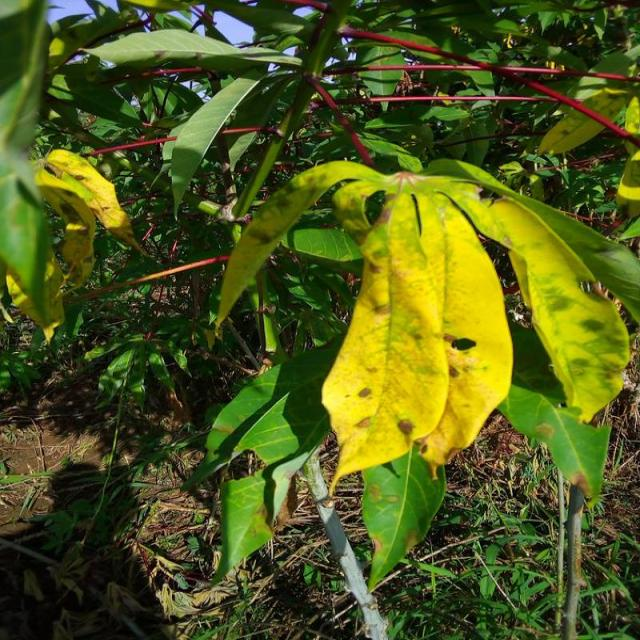cassava leaf: (319, 175, 514, 498)
